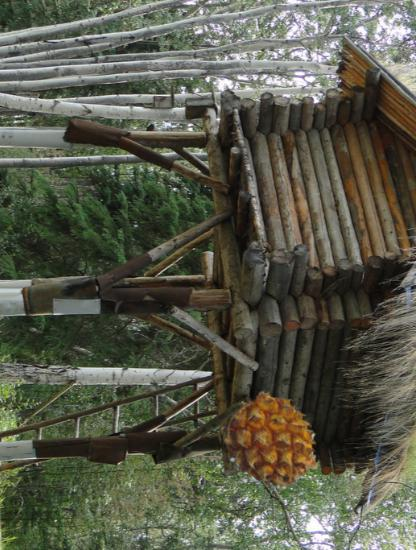Pineapple: (221, 392, 322, 493)
